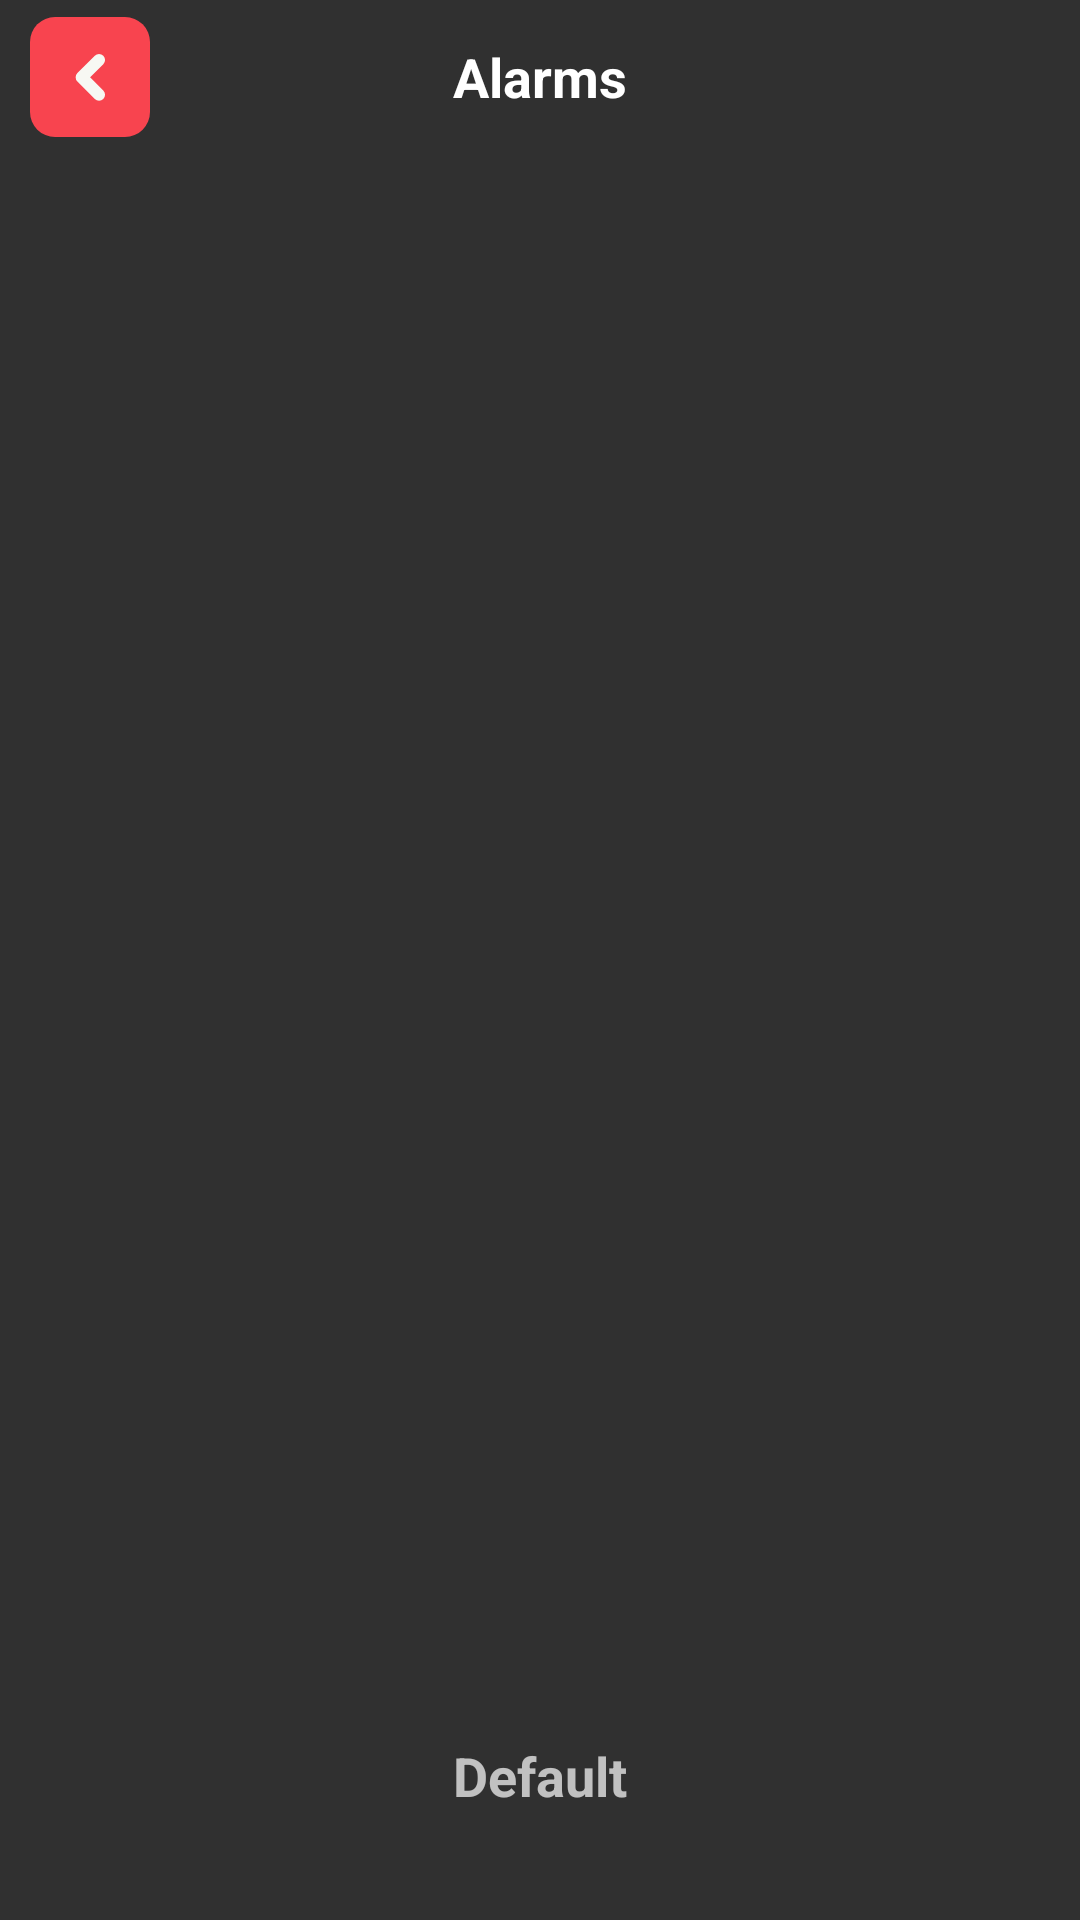

Icons on this 1080x1920 Android screen, each with its box as (x1, y1, x2, y2):
navigate before: (30, 17, 150, 137)
